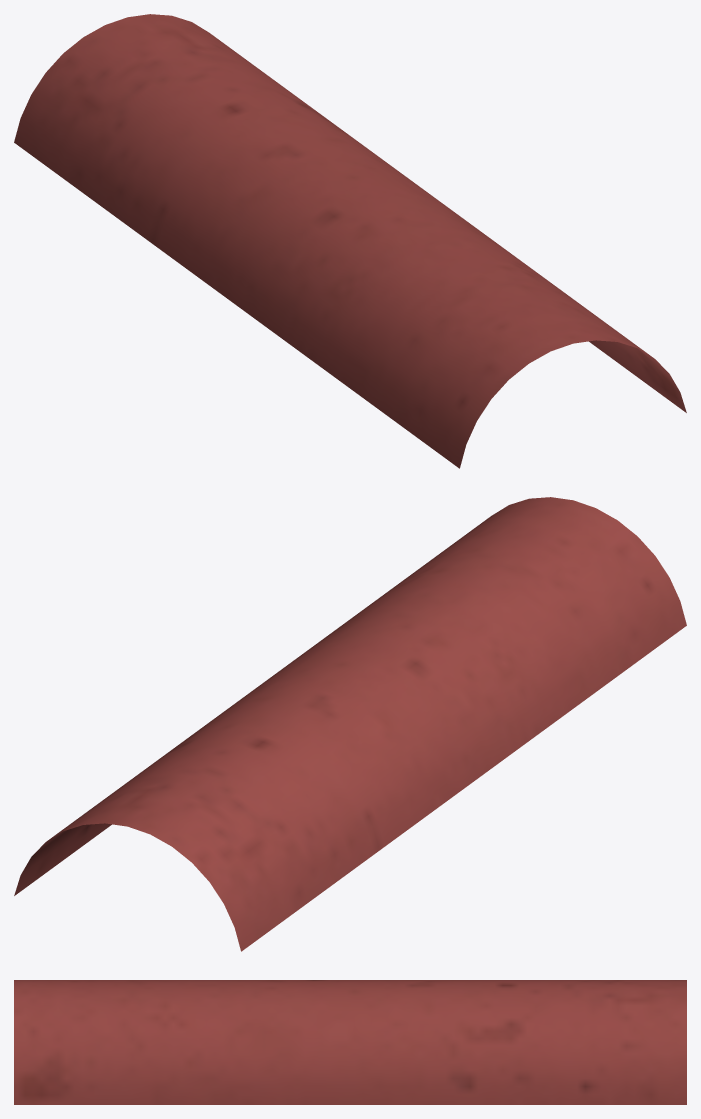
The model's file is GMP_rooftop_01.fbx.
3 views of the same model, one above another, from view 1: azimuth 30°, elevation 25°; view 2: azimuth 150°, elevation 25°; view 3: azimuth 270°, elevation 25° (orthographic). The views are drawn at different scales.
Visible parts, largest first — view 1: top3; view 2: top3; view 3: top3.
Part boxes in pixels (x1=…): top3: x1=14, y1=14, x2=686, y2=468; top3: x1=14, y1=497, x2=686, y2=951; top3: x1=14, y1=980, x2=686, y2=1104.
Bounding box in the file's own units: 0.5885 × 0.2415 × 2.
